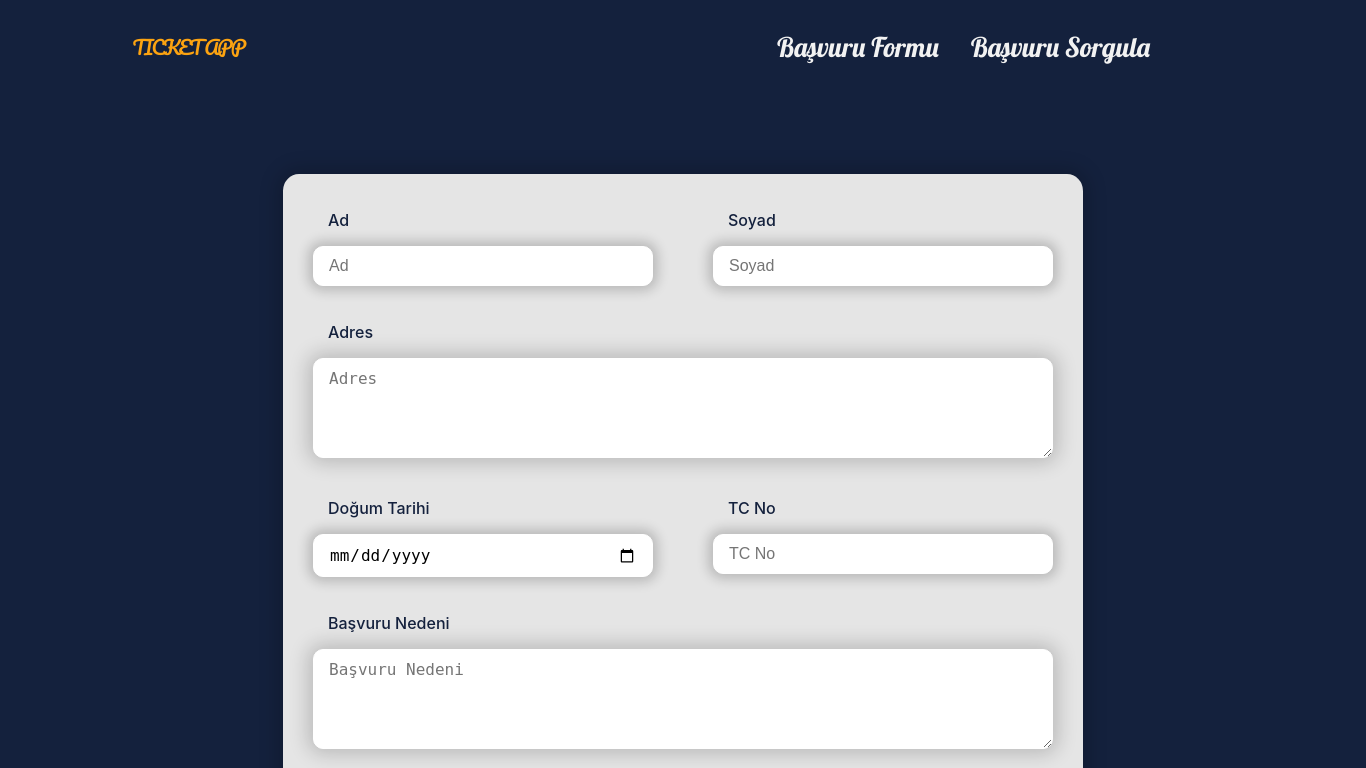
Test: ApplicationForm › should display matching error when name and tcNo is invalid
Type "54" into the field with test id "firstName" at point(483, 266), box 313,246 -> 653,286
Type "*?" into the field with test id "lastName" at point(883, 266), box 713,246 -> 1053,286
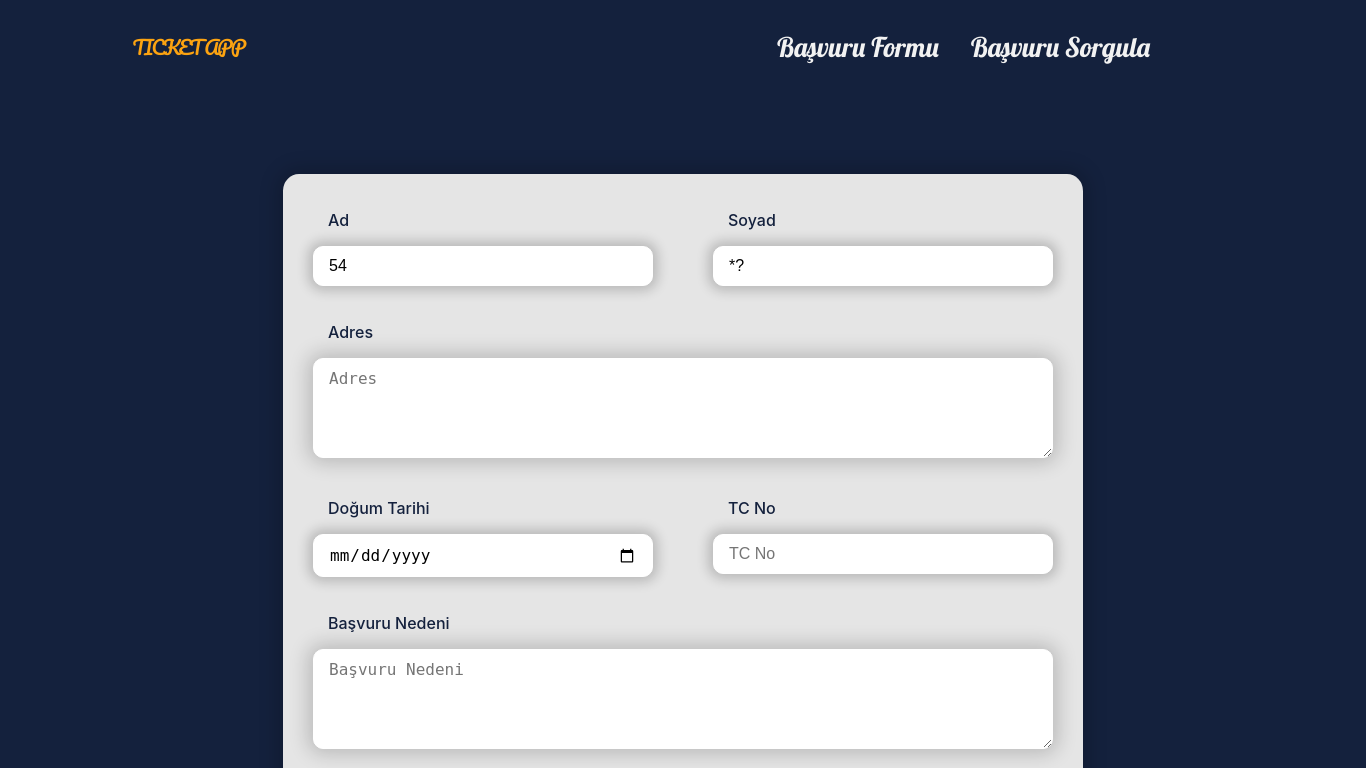
Type "BE34567A91R" into the field with test id "tcNo" at point(883, 554), box 713,534 -> 1053,574
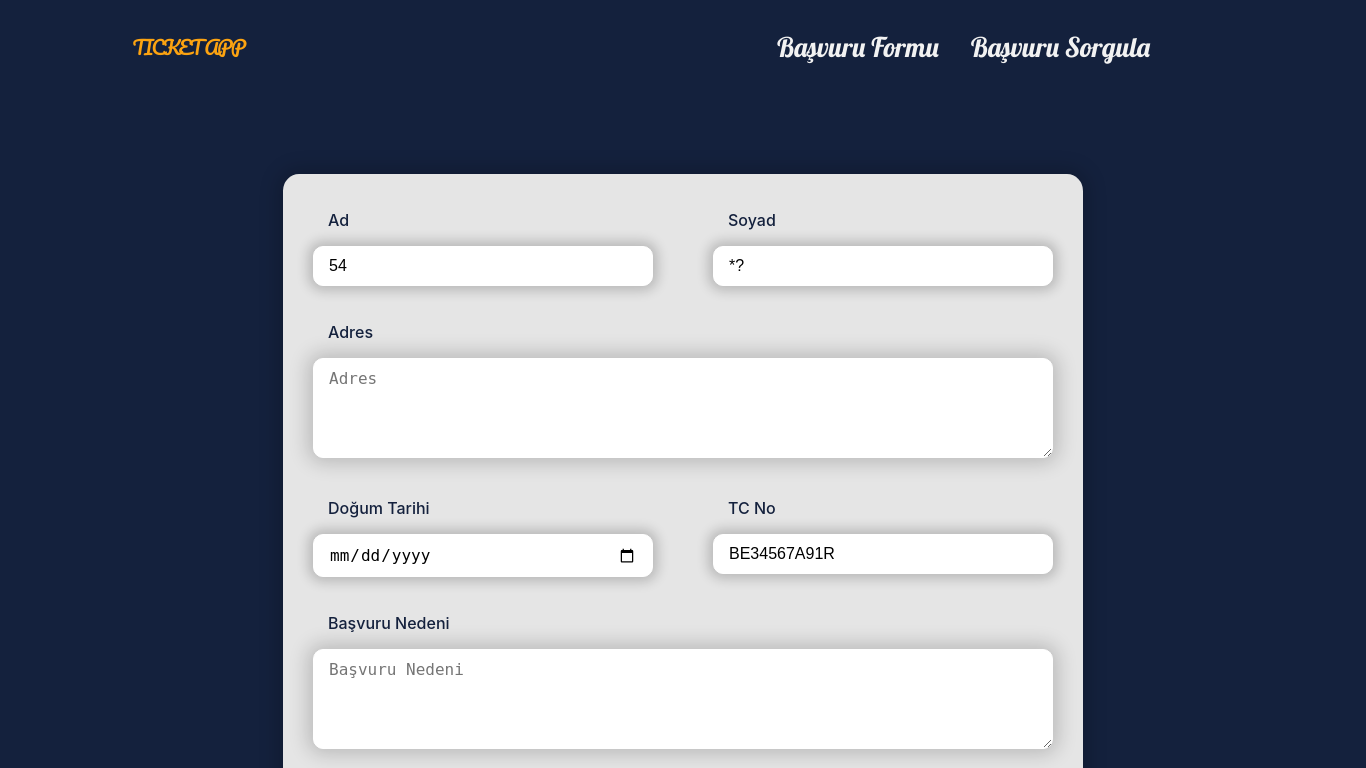
Type "1990-12-31" into the date field with test id "age" at point(483, 556), box 313,534 -> 653,577
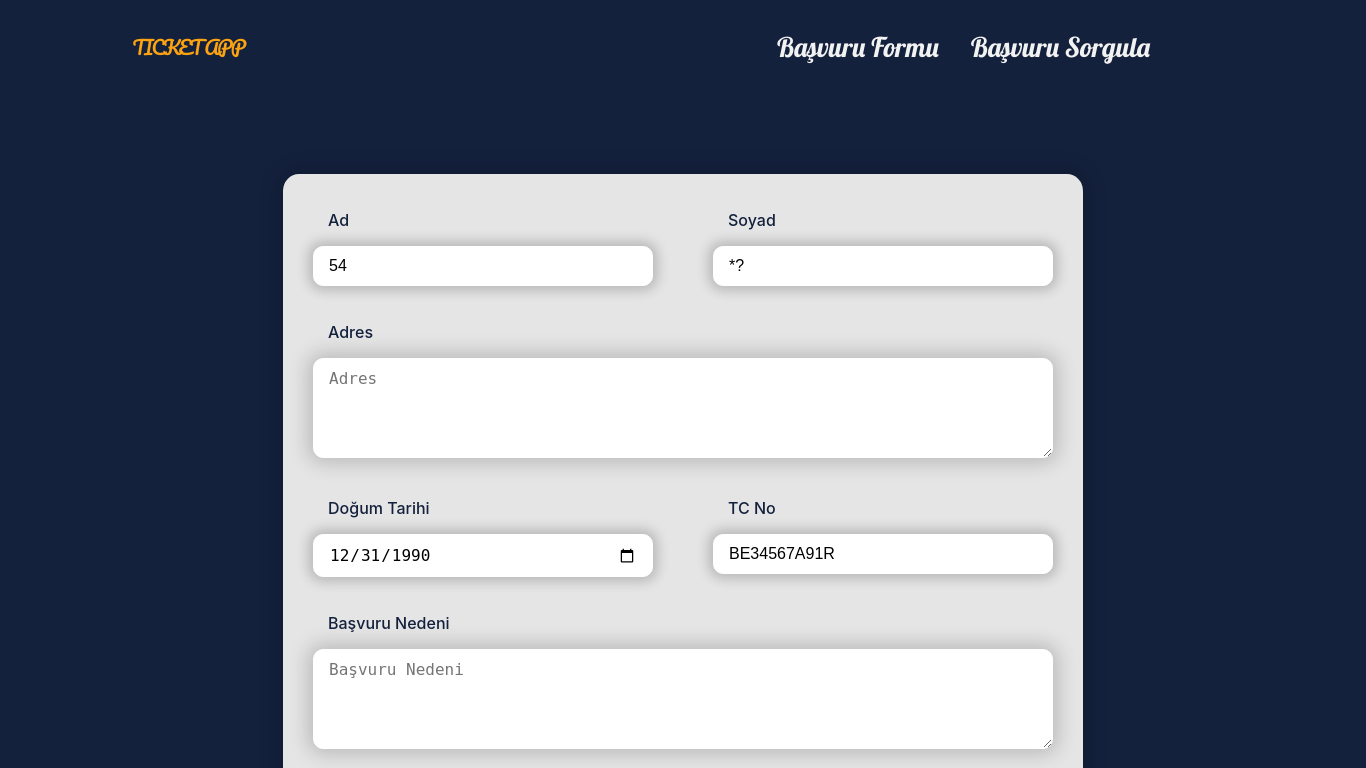
Type "İstanbul / Beşiktaş" into the text box with test id "address" at point(683, 408), box 313,358 -> 1053,458
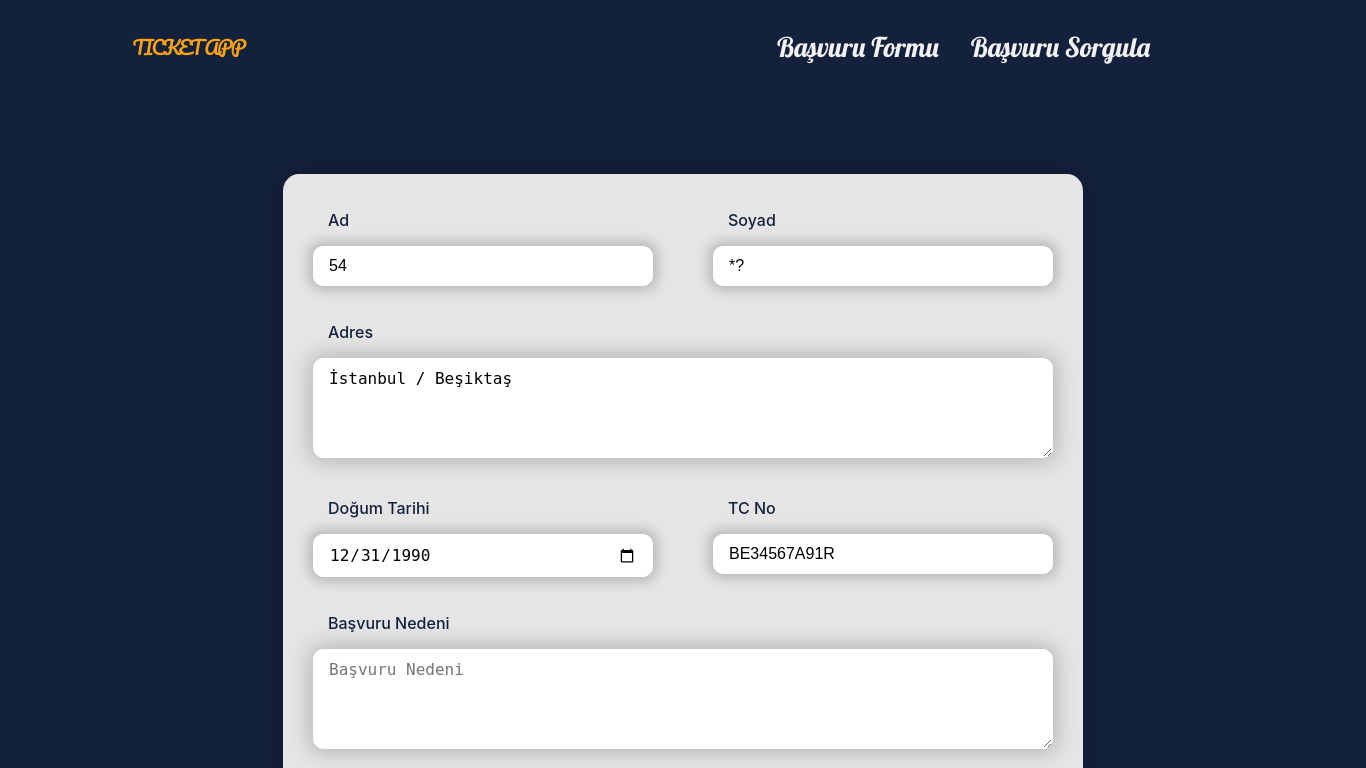
Type "For Testing This Form" into the text box with test id "application" at point(683, 699), box 313,649 -> 1053,749
(page scrolled)
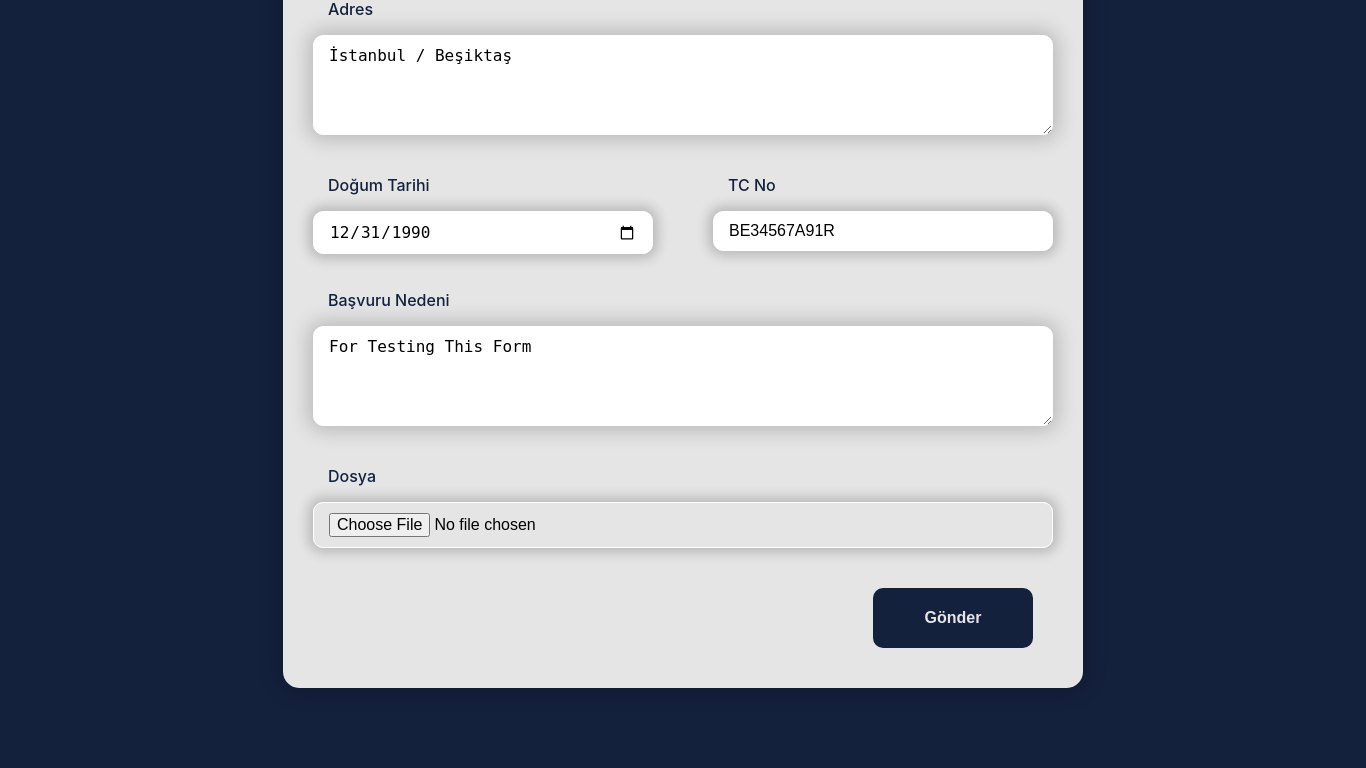
Submit the form from the button, box 873,588 -> 1033,648
(page scrolled)
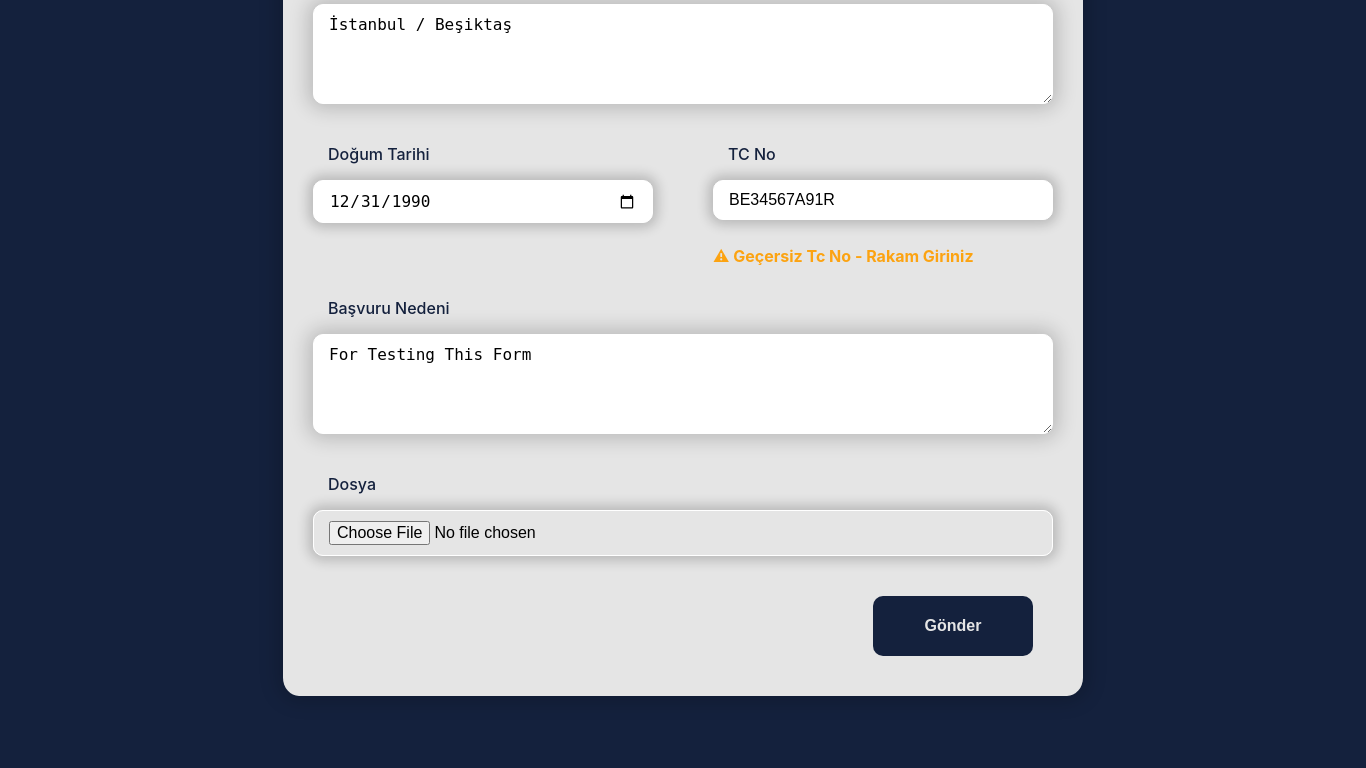
Expected: the number of messages is 3
